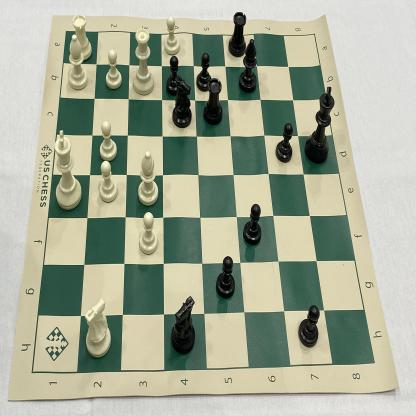black-bishop: (237, 36, 261, 96)
black-king: (302, 80, 338, 166)
black-knight: (167, 291, 199, 357), (169, 76, 196, 131)
black-pawn: (295, 297, 322, 352), (240, 198, 265, 249), (214, 252, 237, 302), (272, 119, 296, 165), (194, 48, 215, 94), (165, 50, 184, 98)
black-rook: (201, 76, 228, 128), (224, 7, 249, 61)
white-bishop: (136, 148, 161, 208), (66, 32, 90, 93)
white-king: (51, 127, 85, 213)
white-knight: (81, 295, 115, 361)
white-pawn: (136, 209, 160, 259), (96, 158, 120, 207), (97, 118, 119, 165), (103, 47, 125, 91), (161, 13, 182, 58)
white-queen: (131, 23, 157, 97)
white-rook: (70, 10, 95, 63)
